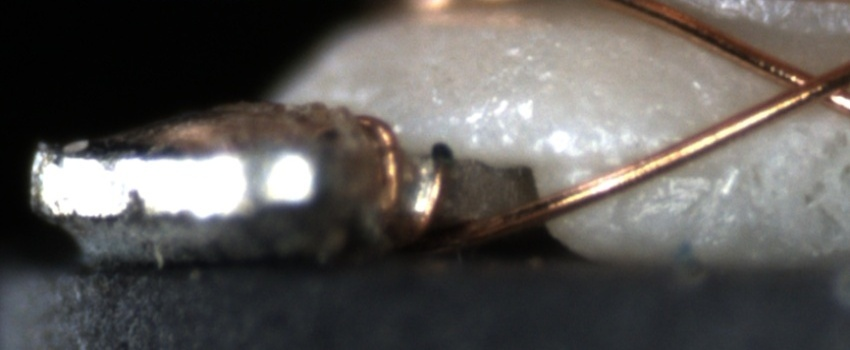CL: (763, 52, 850, 116)
DL: (574, 147, 731, 190)
TE: (342, 105, 454, 238)
